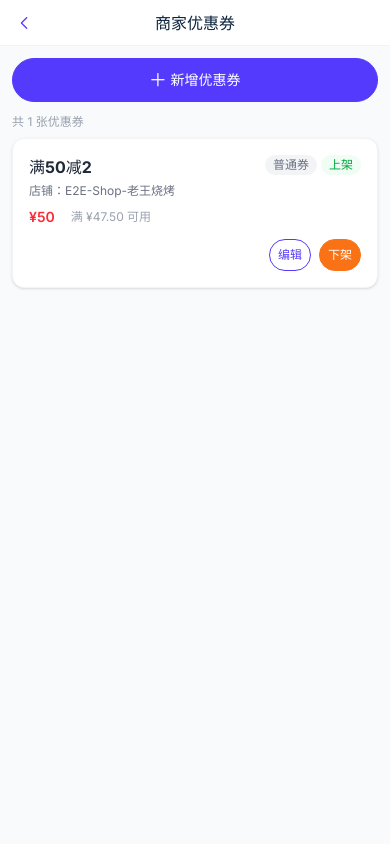
Merchant/VoucherList.vue — 新建普通券 › 打开弹窗：默认普通券类型 type=0
The width and height of the screenshot is (390, 844).
Click the button with test id "voucher-create": (195, 80) [12, 58, 378, 102]
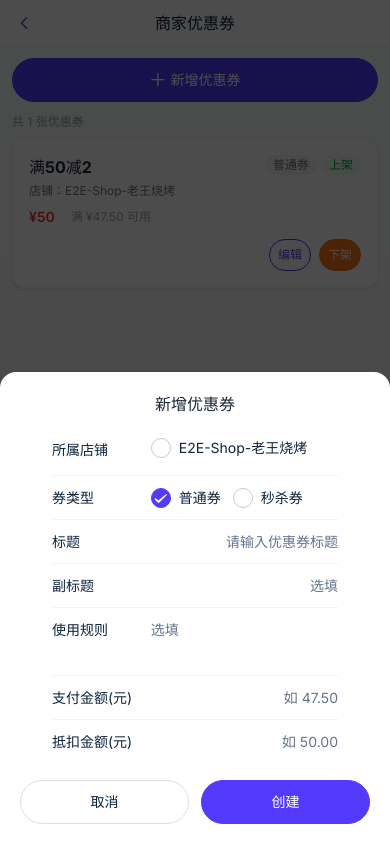
Expected: the text "新增优惠券" is shown, [170, 72, 240, 88]
Expected: the element with test id "field-title" is shown, [36, 520, 354, 564]
